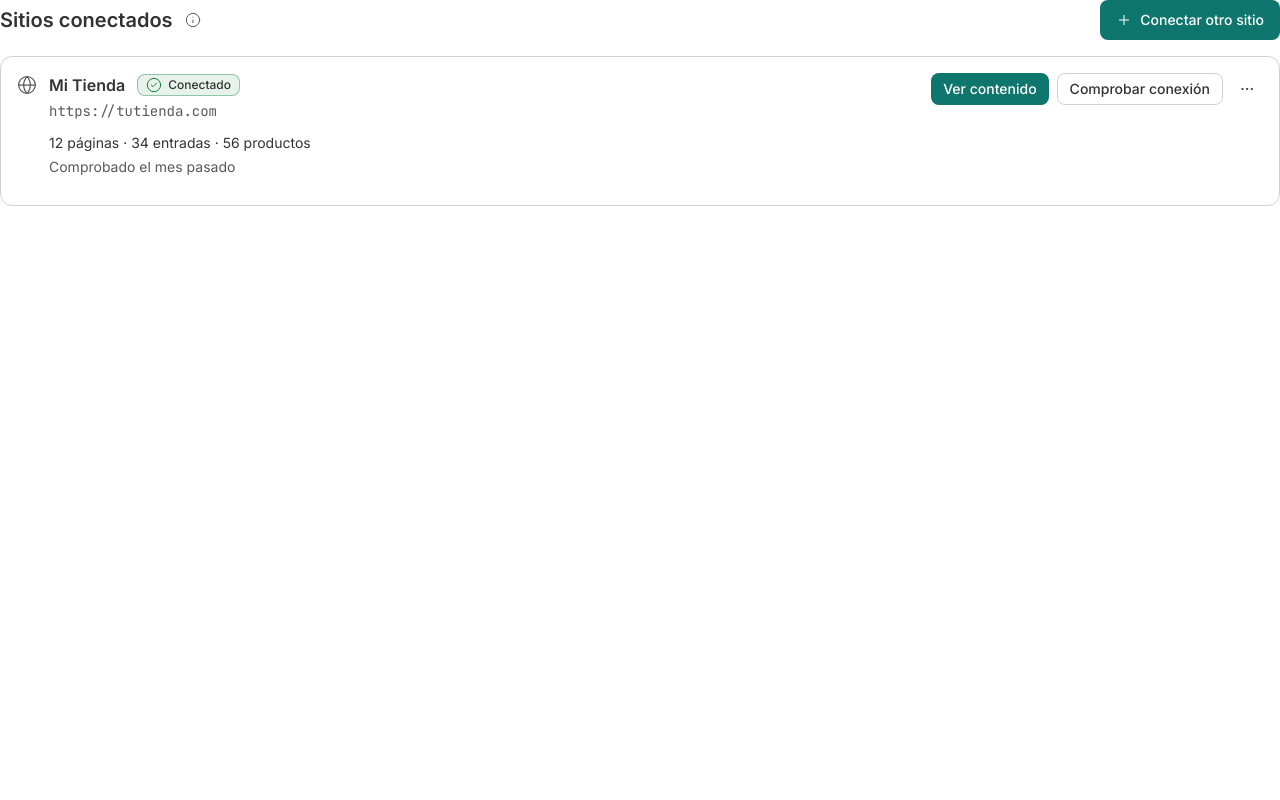
it: Ver contenido › vacío en Entradas
The image size is (1280, 800).
Click the button with aria-label "Ver contenido de Mi Tienda" at (990, 89), box [931,73,1049,105]
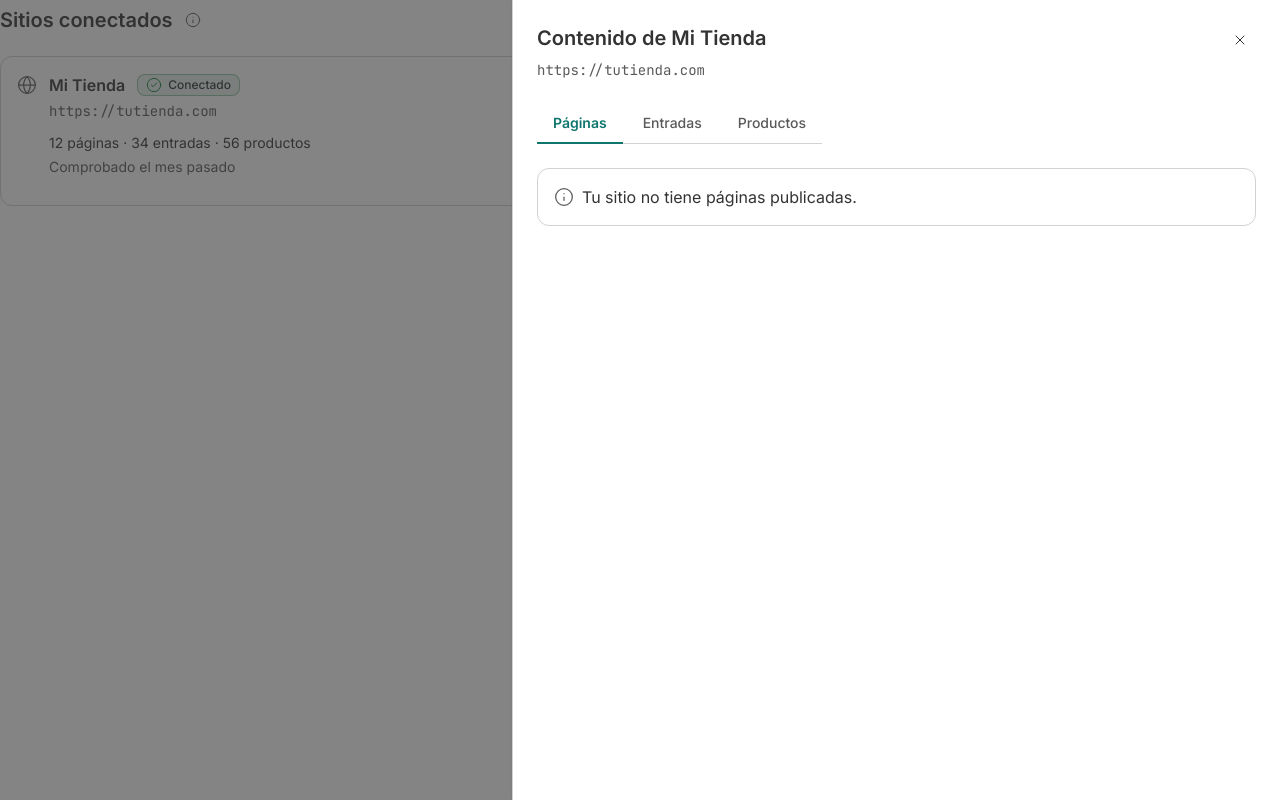
Click the tab "Entradas" at (672, 124), box [627,104,718,144]
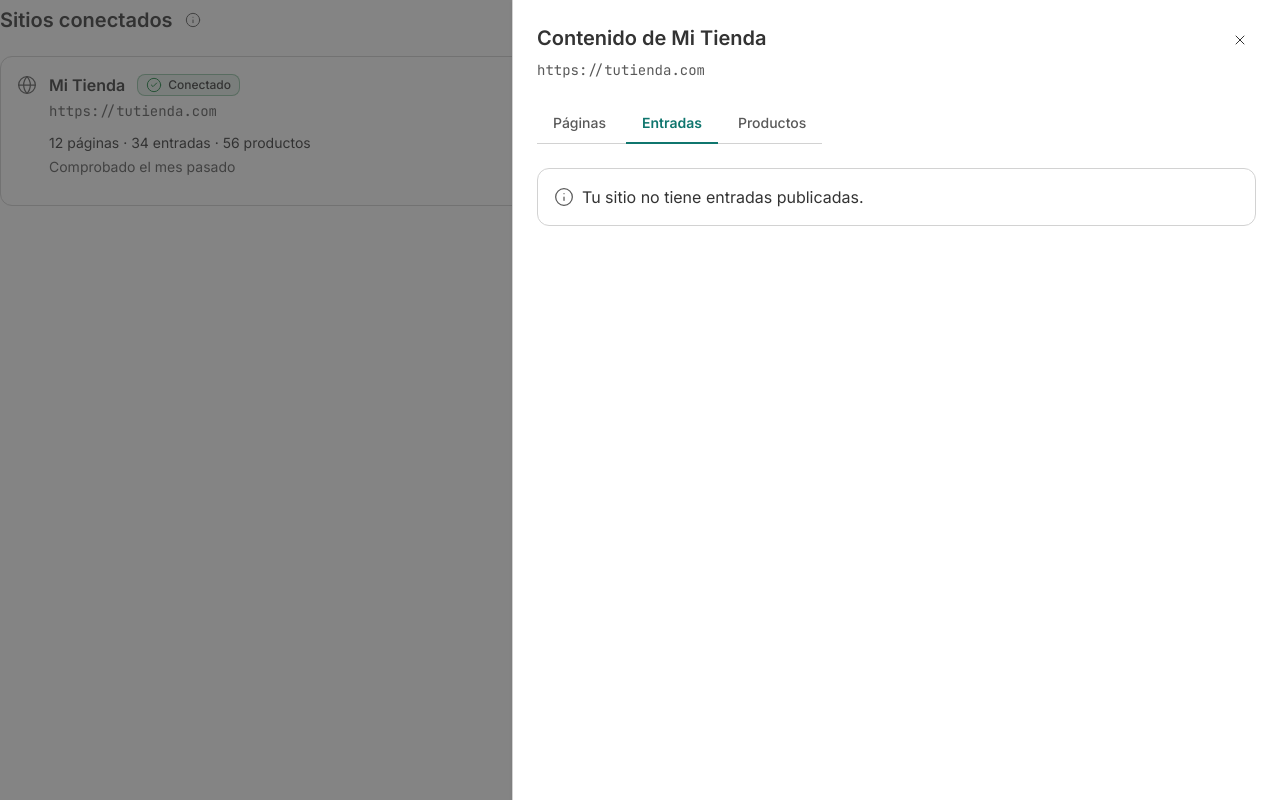
Expected: the text "Tu sitio no tiene entradas publicadas." is shown, [537,168,1256,226]
